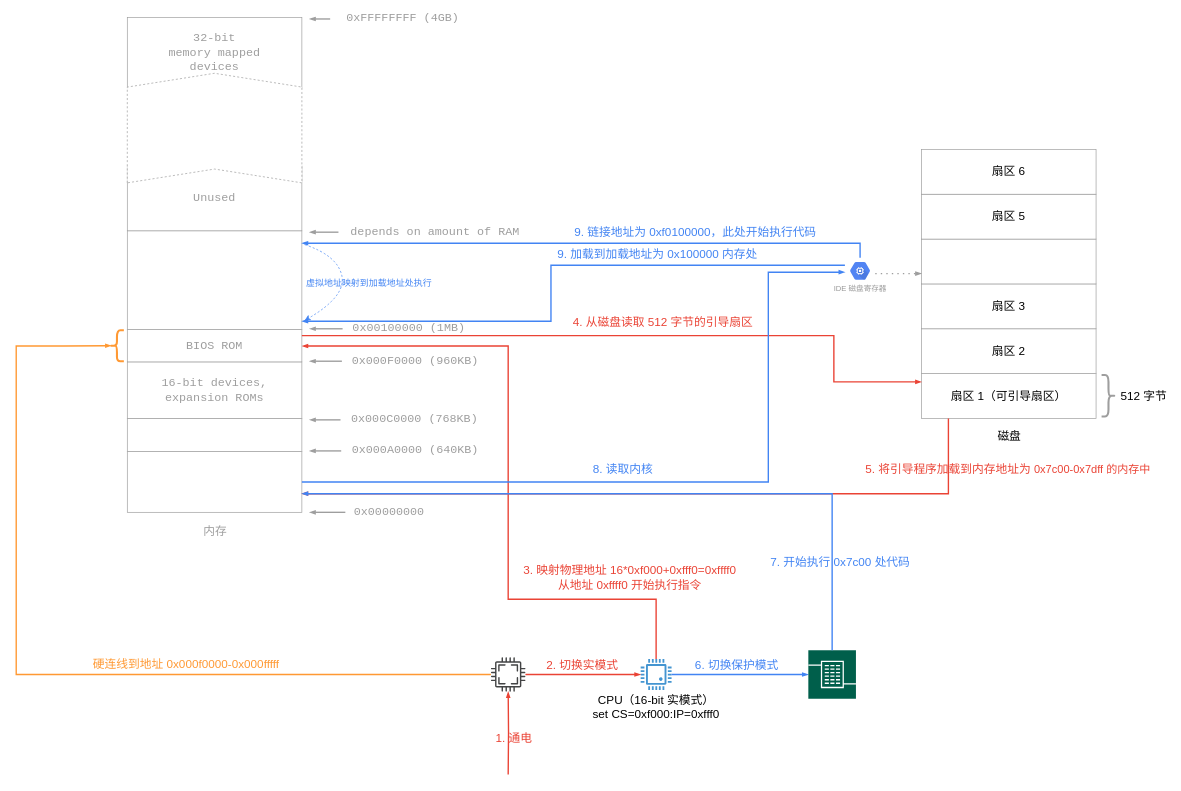
Image size: 1181x791. Some labels were removed from this diagram. Each missing label, with the centre of its shape:
"CPU" belongs at point 508,674.
"CPU（32-bit 保护模式）" belongs at point 832,674.
"Extended Memory" belongs at point 214,279.
"Low Memory" belongs at point 214,481.
"VGA Display" belongs at point 214,435.
"扇区 4" belongs at point 1008,261.
